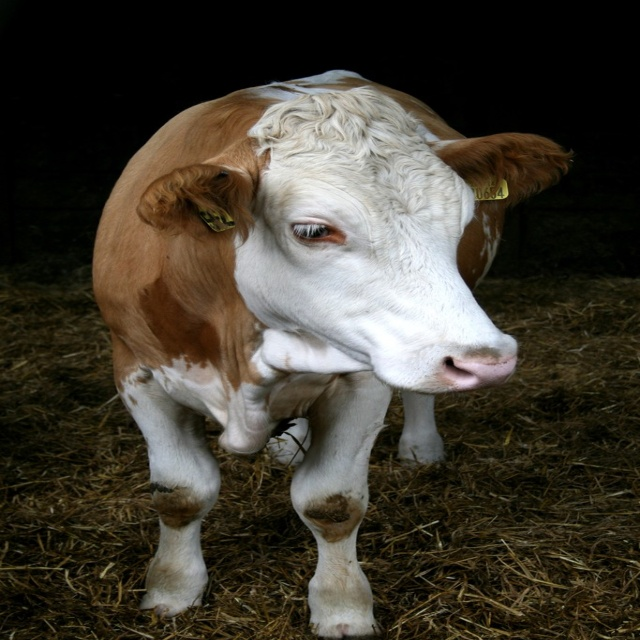Cattle: (92, 69, 578, 640)
